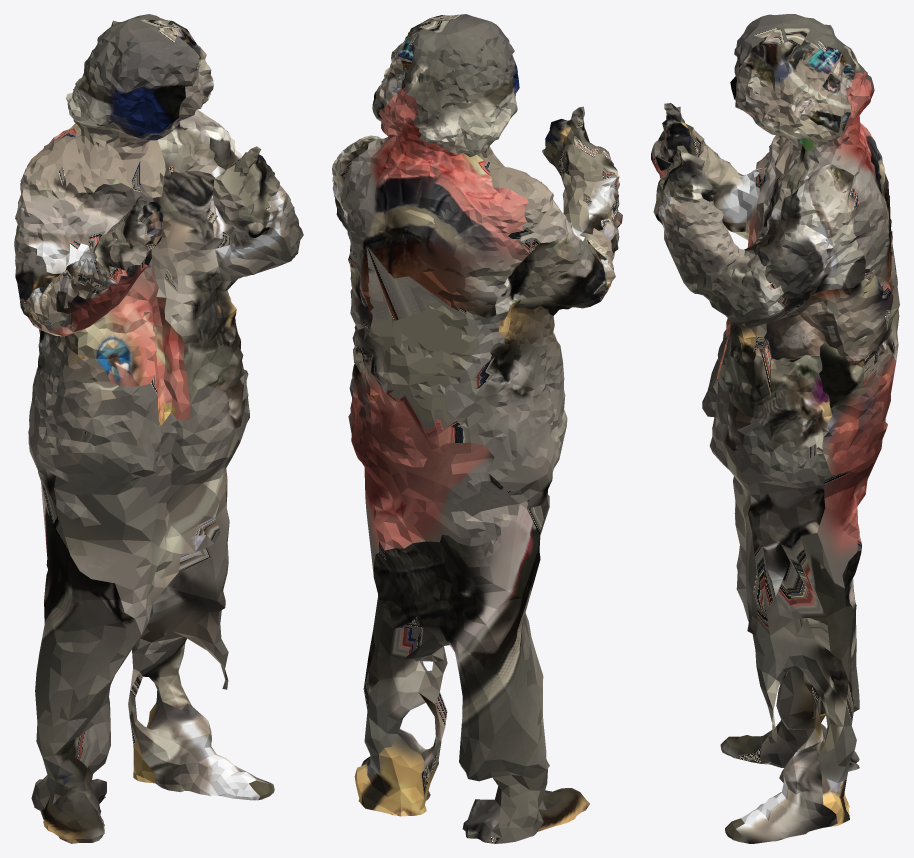
The model's file is hayyan.fbx.
3 renders of one model, left to right at view 1: azimuth 30°, elevation 25°; view 2: azimuth 150°, elevation 25°; view 3: azimuth 270°, elevation 25°, orthographic.
Parts seen in each view (by area): view 1: textured_output; view 2: textured_output; view 3: textured_output.
Part boxes in pixels (x1,y1,x2,y2): textured_output: (14, 14, 303, 843); textured_output: (332, 14, 622, 843); textured_output: (651, 14, 899, 843).
Size of the model in its own units: 69.07 by 190 by 55.83.
